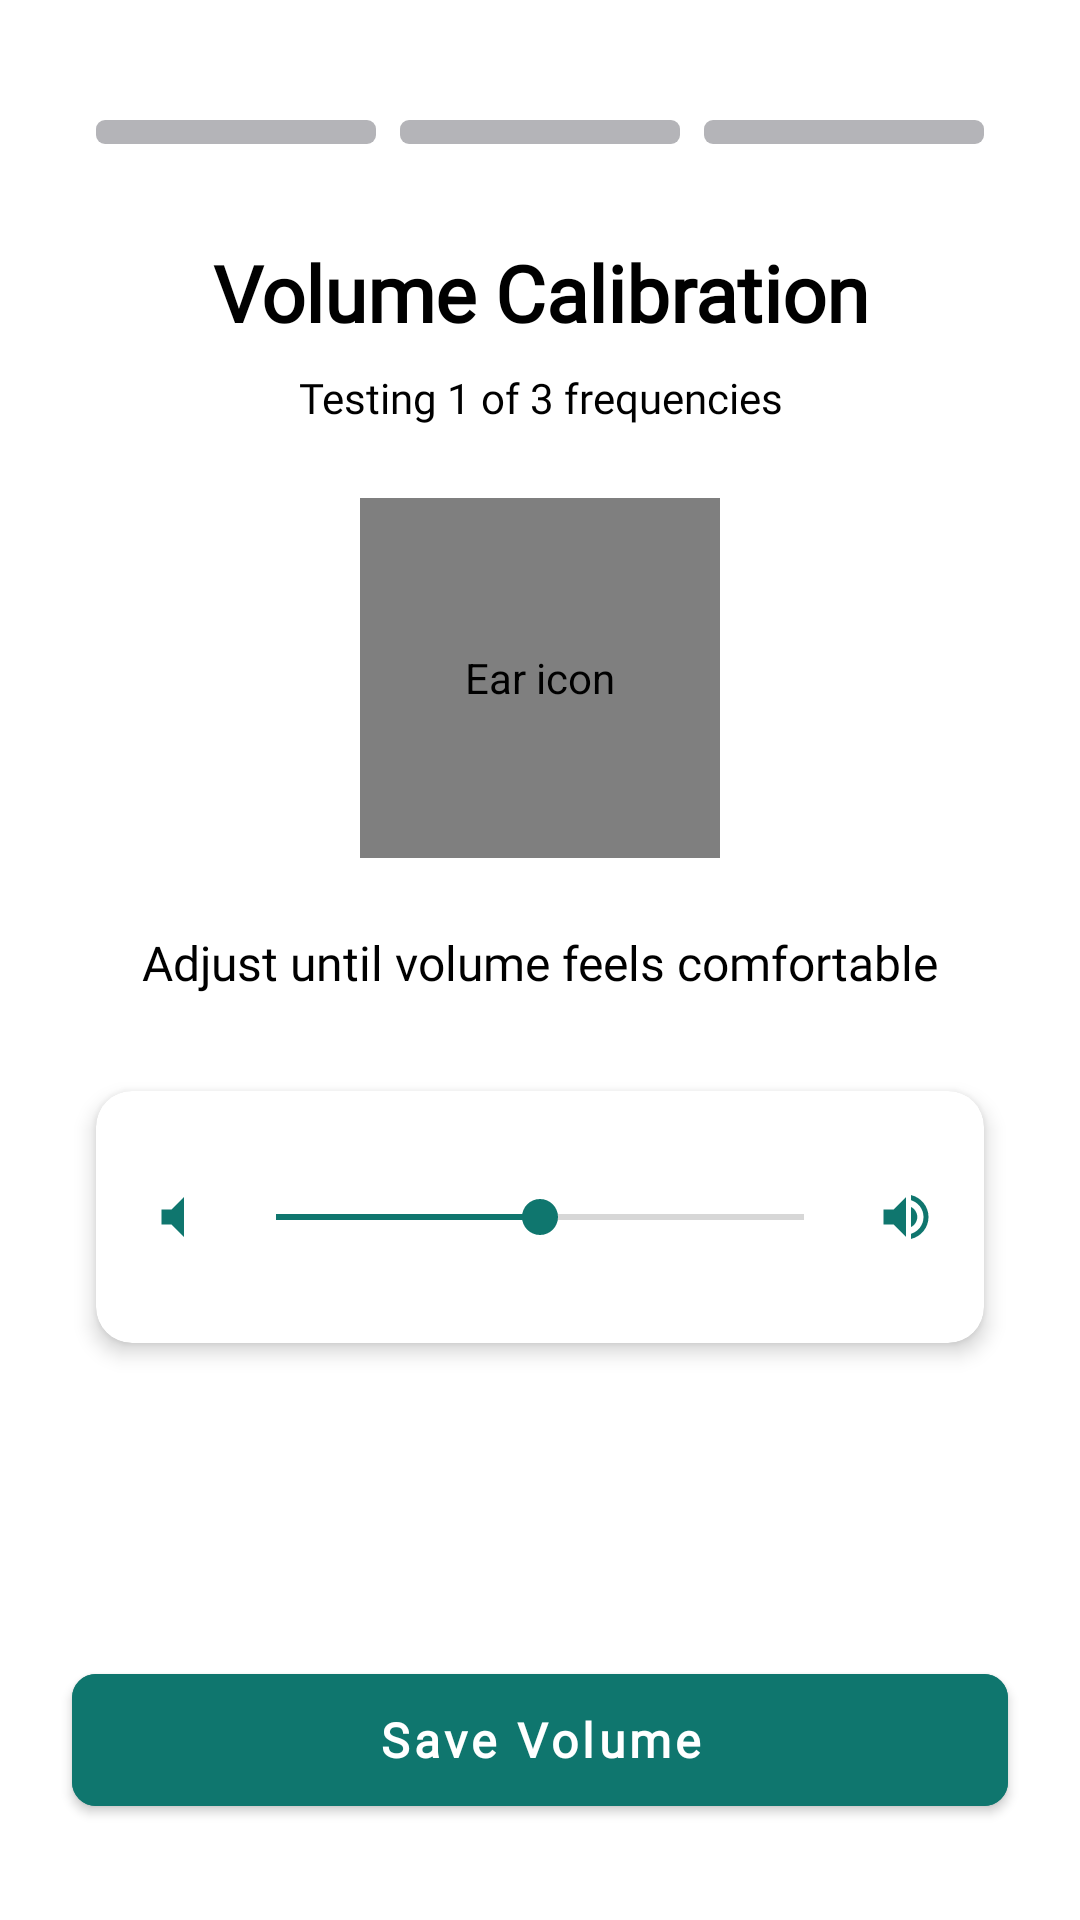

Where icons sit on this 1080x1920 app screen, as (x1=x1, y1=y1, x2=x2, y2=y2):
Volume High: (x1=883, y1=1195, x2=929, y2=1239)
Volume Low: (x1=161, y1=1197, x2=184, y2=1237)
